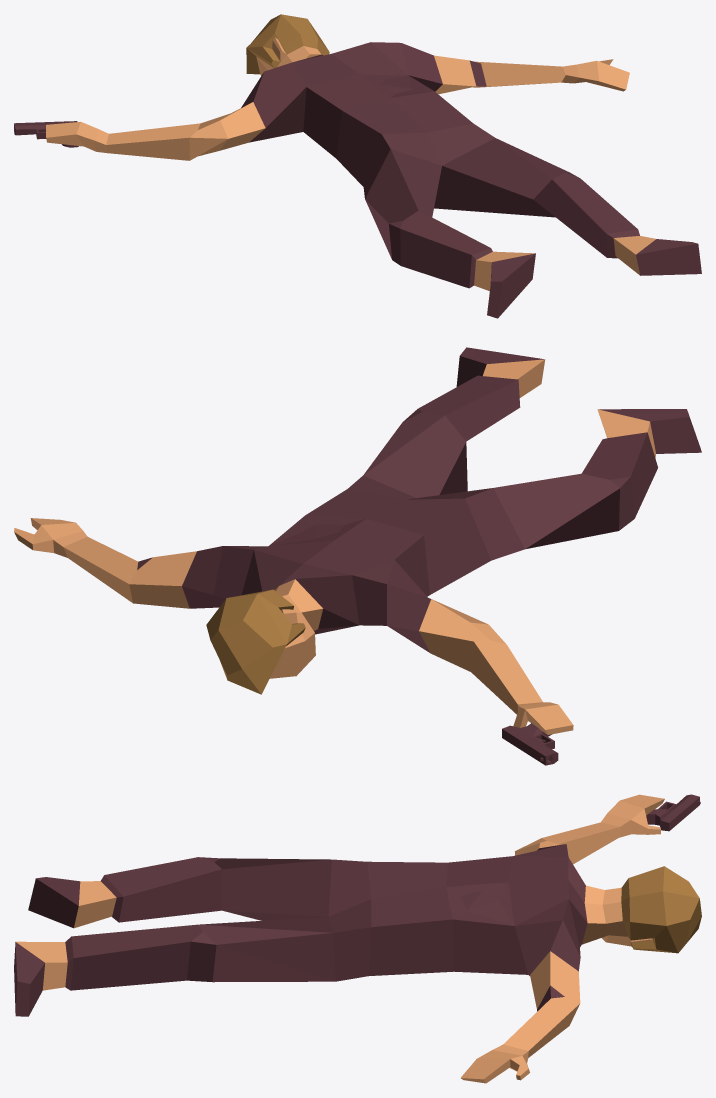
Rendered from man-shirt-dead-a.fbx.
The picture shows the model from 3 angles, top to bottom: view 1: azimuth 30°, elevation 25°; view 2: azimuth 150°, elevation 25°; view 3: azimuth 270°, elevation 25°; orthographic projection. The views are drawn at different scales.
Parts seen in each view (by area): view 1: man-shirt-dead-a; view 2: man-shirt-dead-a; view 3: man-shirt-dead-a.
Part boxes in pixels (left/top/right/bottom): man-shirt-dead-a: left=14, top=14, right=701, bottom=318; man-shirt-dead-a: left=14, top=347, right=701, bottom=765; man-shirt-dead-a: left=14, top=794, right=701, bottom=1083.
Size of the model in its own units: 1.76 by 0.2524 by 1.82.
